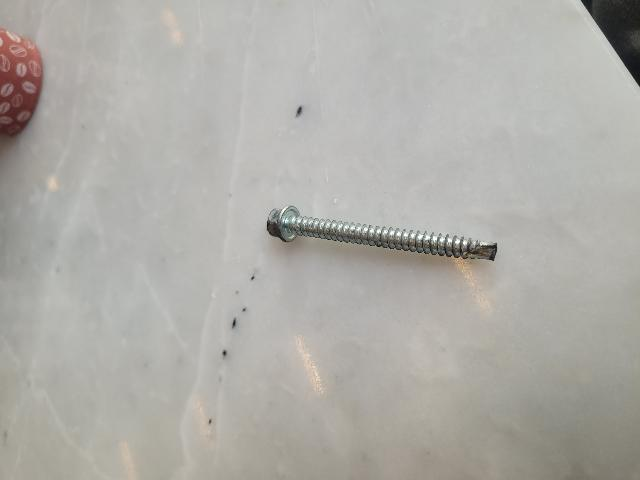Metal: (265, 199, 499, 299)
